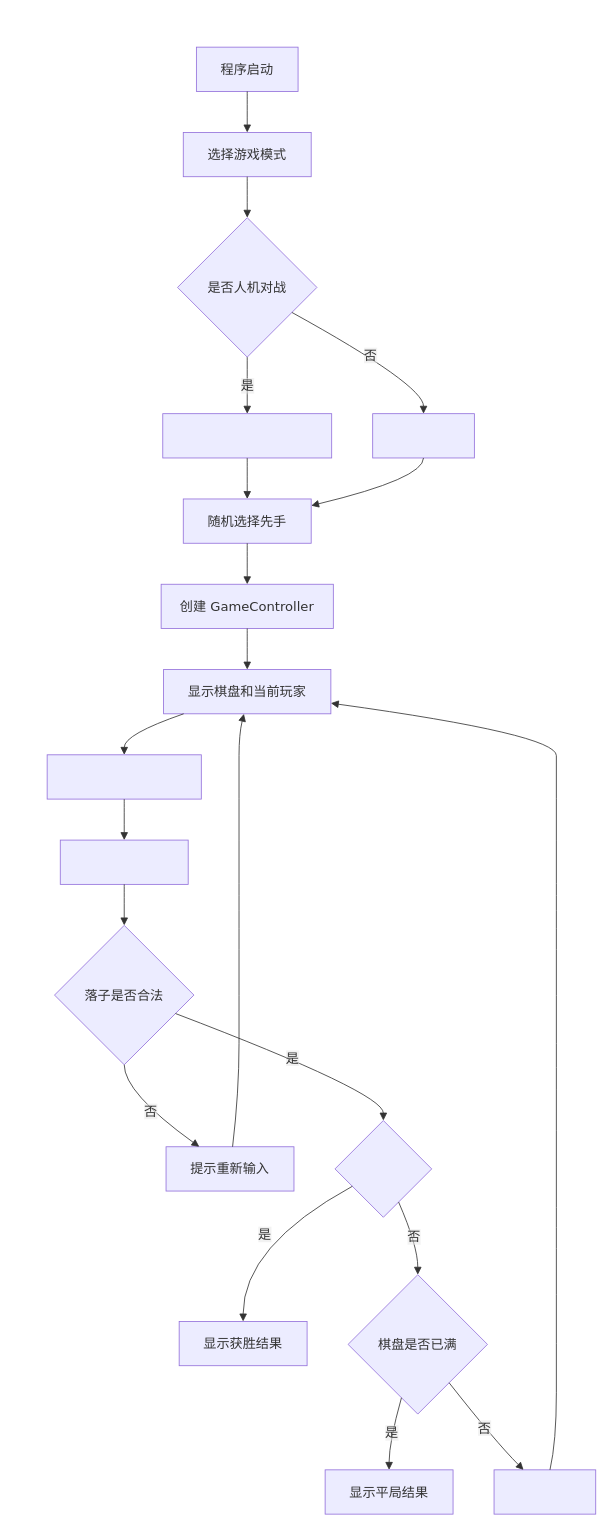
This 610x1528 diagram has some shape labels left out. Here are the shapes that lost their labels. From the top down, the centre of each, then its label:
At (x=247, y=435): "选择自己使用 X 或 O".
At (x=423, y=435): "双人对战".
At (x=123, y=776): "选择当前回合玩家".
At (x=123, y=861): "获取落子坐标".
At (x=383, y=1168): "是否获胜".
At (x=544, y=1491): "切换玩家".
